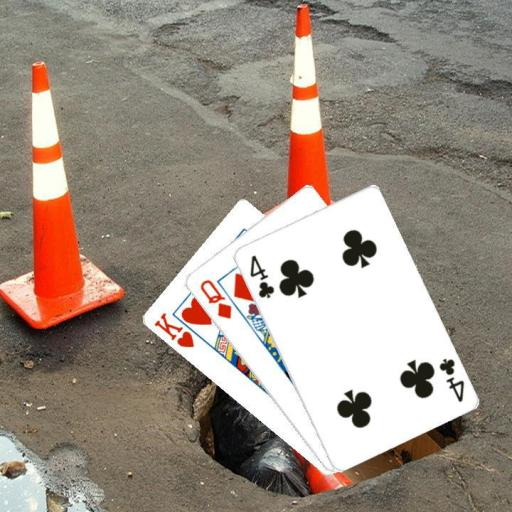4C: (435, 355, 466, 404), (246, 252, 276, 300)
KH: (150, 309, 196, 350)
QD: (197, 276, 234, 321)
